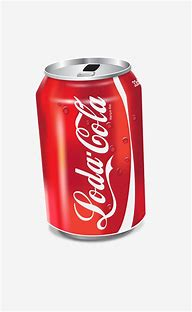Coke: (35, 55, 151, 243)
